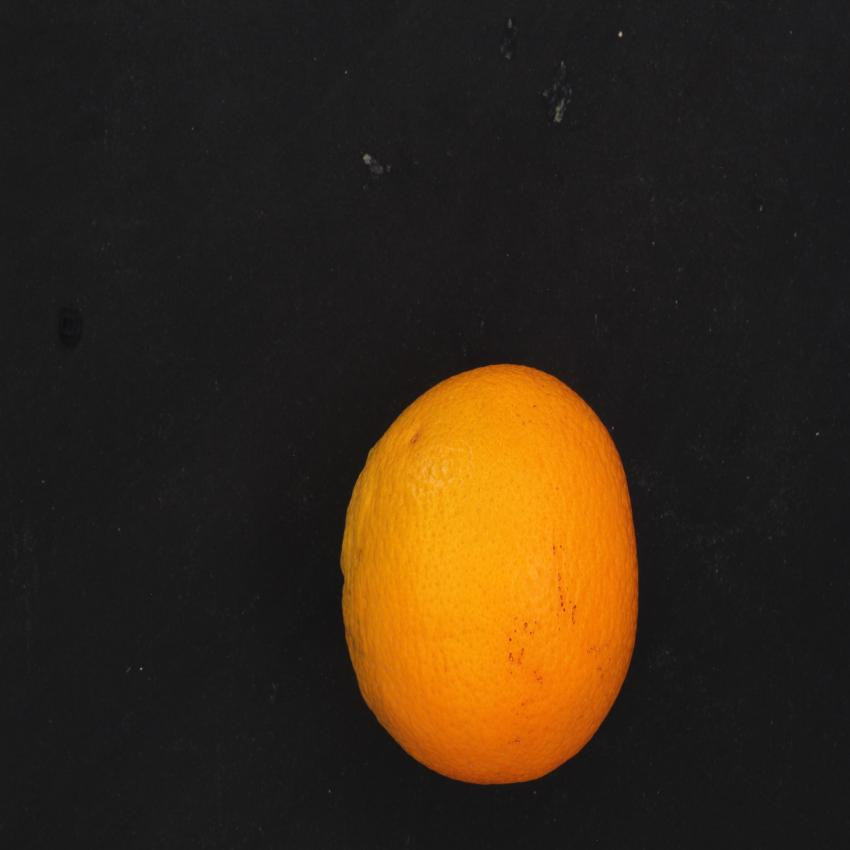Buen estado: (334, 357, 661, 797)
